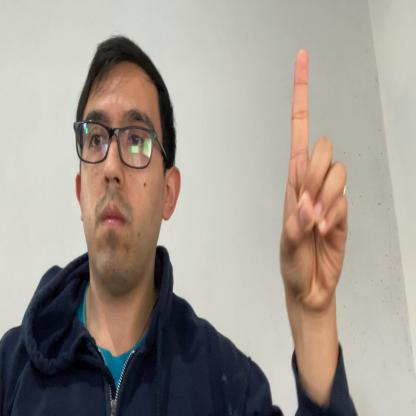D: (279, 49, 349, 313)
